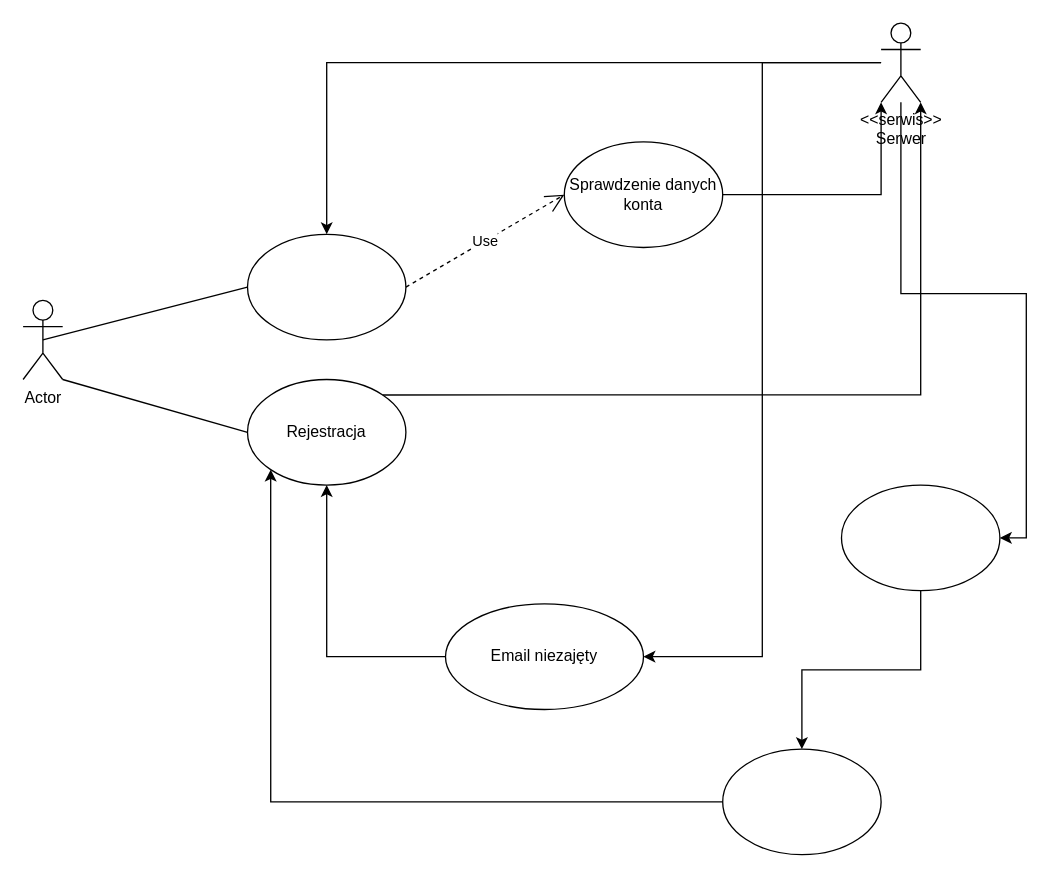
The diagram is 1060 pixels wide and 878 high, and some of its shapes have lost their labels. Here are the shapes that lost their labels. From the top down, the box of each, then its label:
(246, 233, 406, 340): Login
(840, 484, 1000, 591): Email zajęty
(721, 748, 881, 855): Zmiana emaila
